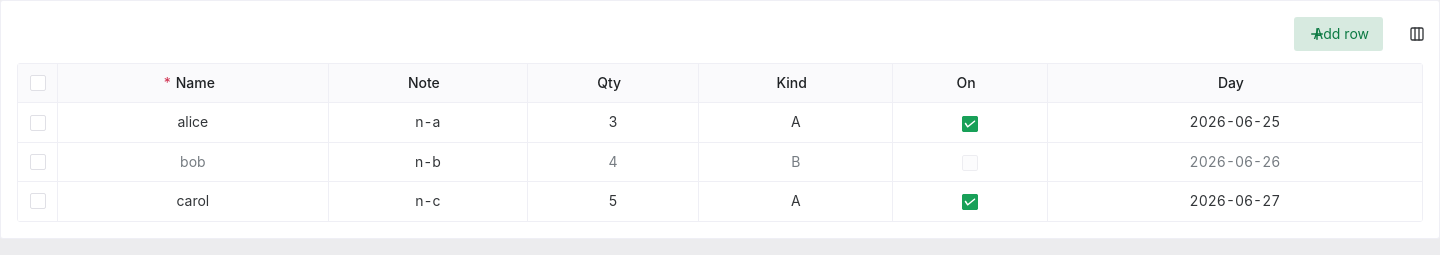
Test: 行级只读(锁定的格:可选中、不可编辑) › 列显式 readonly: false 压过 rowReadonly(如「状态」列,否则停用的行永远没法再启用)
Click the cell "n-b" at (428, 162), box [329,143,528,182]
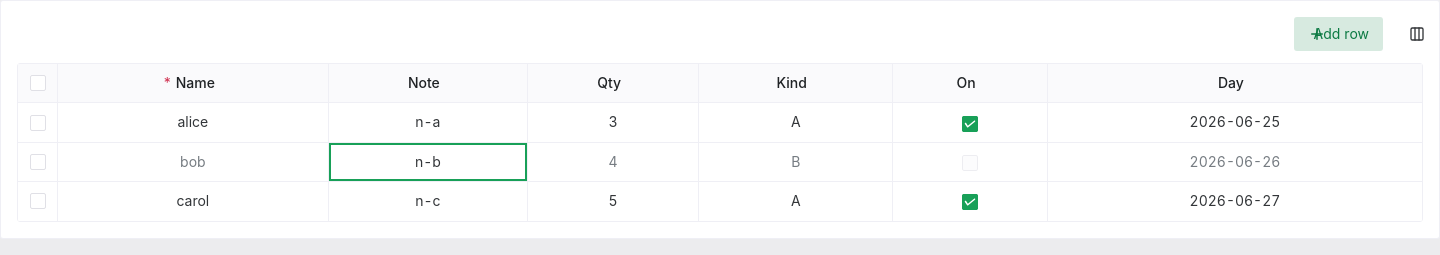
Click the cell "n-b" at (428, 162), box [329,143,528,182]
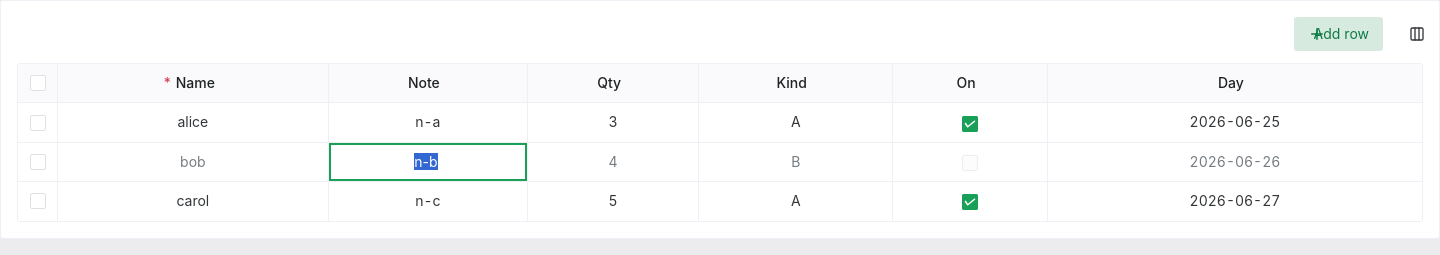
Now the field is shown, box [337,143,515,181]
